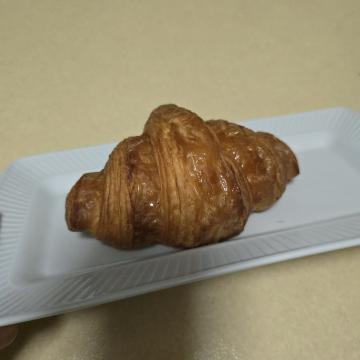croissant: (96, 55, 269, 303)
